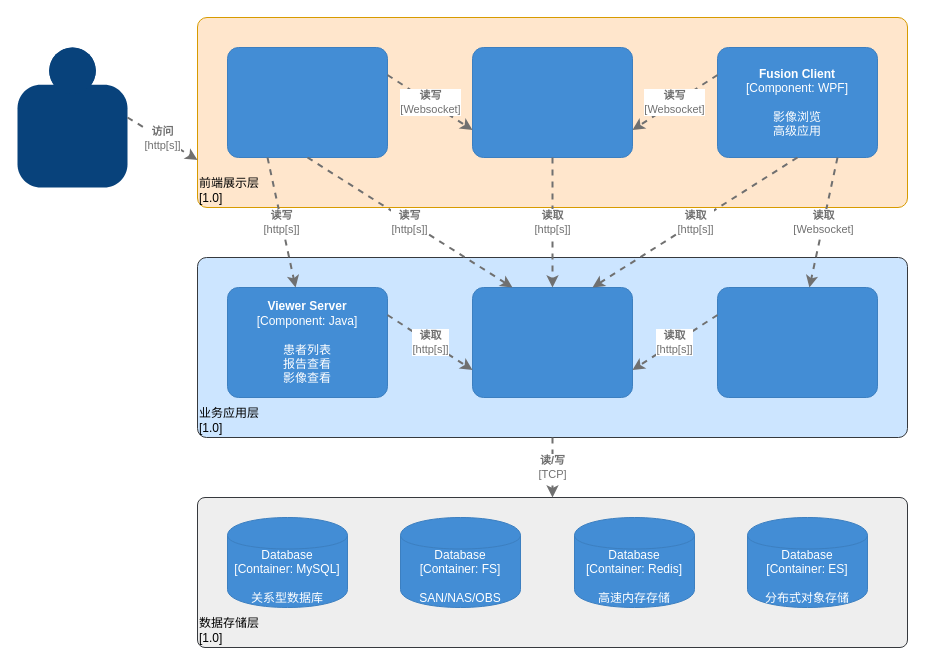
Image size: 925x665. Some labels were removed from this diagram. The centre of each missing label's shape, as x and y in pixels:
"Cetus [Component: Java] PACS功能 WADO 报告/附件" belongs at [552,342].
"Fusion Server [Component: C#] 图像融合 高级后处理" belongs at [797,342].
"Proxy [Component: WPF] Description" belongs at [552,102].
"Viewer Client [Component: H5/App] 患者列表 报告浏览 影像浏览" belongs at [307,102].
"用户 [Person] 医生 患者/家属 科研工作者" belongs at [72,117].
